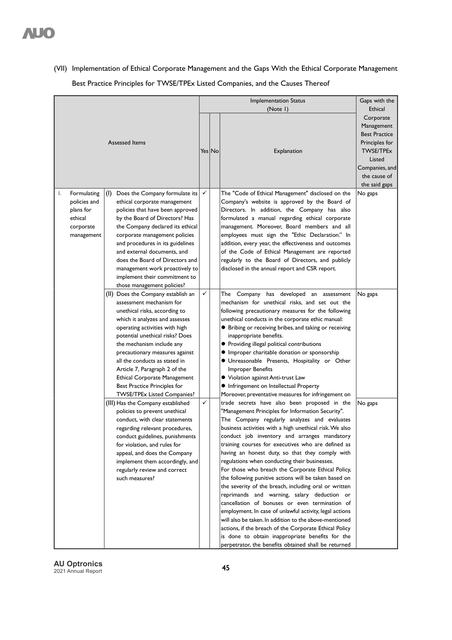box: (53, 94, 400, 552)
